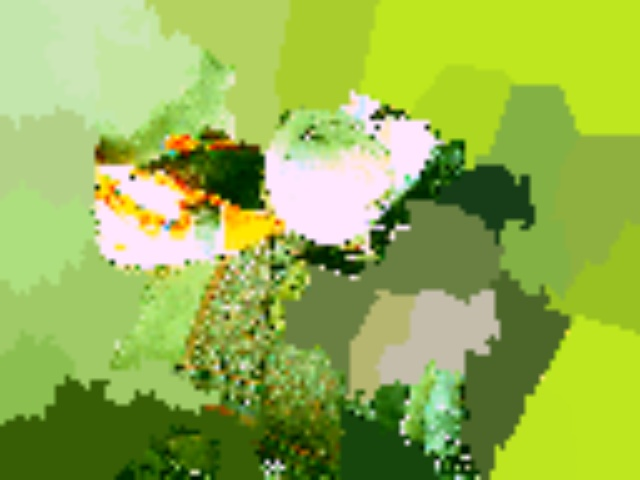one: (356, 186, 397, 231)
